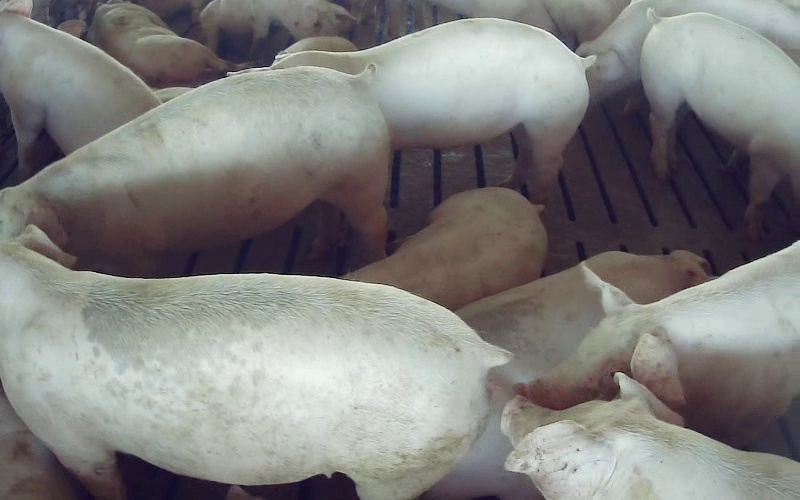pig: (0, 67, 389, 274), (274, 18, 594, 202), (518, 241, 799, 445), (501, 373, 799, 499), (641, 9, 799, 236), (344, 188, 546, 309), (576, 0, 799, 103), (88, 2, 226, 87)
